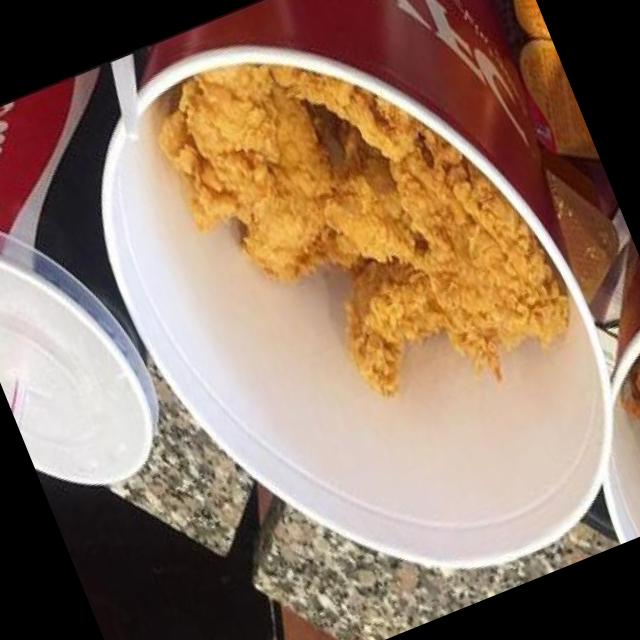Fried Chicken: (158, 61, 571, 396)
